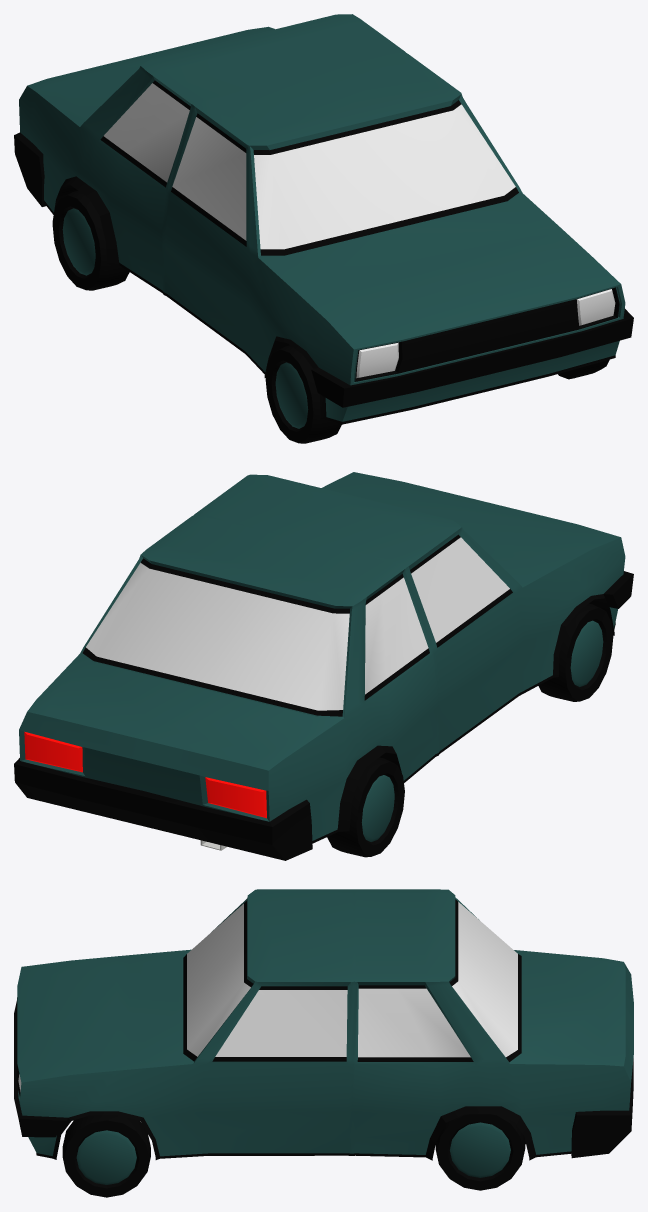
The model's file is taksi1.fbx.
3 renders of one model, top to bottom at view 1: azimuth 30°, elevation 25°; view 2: azimuth 150°, elevation 25°; view 3: azimuth 270°, elevation 25°, orthographic. The views are drawn at different scales.
Visible parts, largest first — view 1: Cube.014, Cube.029, Cube.028; view 2: Cube.014, Cube.029, Cube.028; view 3: Cube.014, Cube.031, Cube.013.
Part boxes in pixels (<box>): Cube.014: <box>14,14,633,424</box>; Cube.029: <box>52,191,129,290</box>; Cube.028: <box>265,345,341,443</box>; Cube.014: <box>14,472,633,860</box>; Cube.029: <box>327,757,404,857</box>; Cube.028: <box>538,603,613,701</box>; Cube.014: <box>14,889,633,1160</box>; Cube.031: <box>62,1115,150,1197</box>; Cube.013: <box>435,1114,525,1190</box>.
Bounding box in the file's own units: 600 × 430 × 1199.
